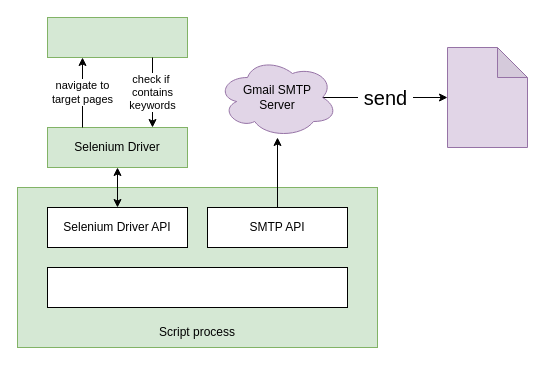
Image size: 545x365. Some labels were removed from this diagram. Each missing label, with the centre of its shape:
"Browser Web Pages" goes at pixel 117 37.
"email notification" goes at pixel 487 97.
"Main" goes at pixel 197 287.
